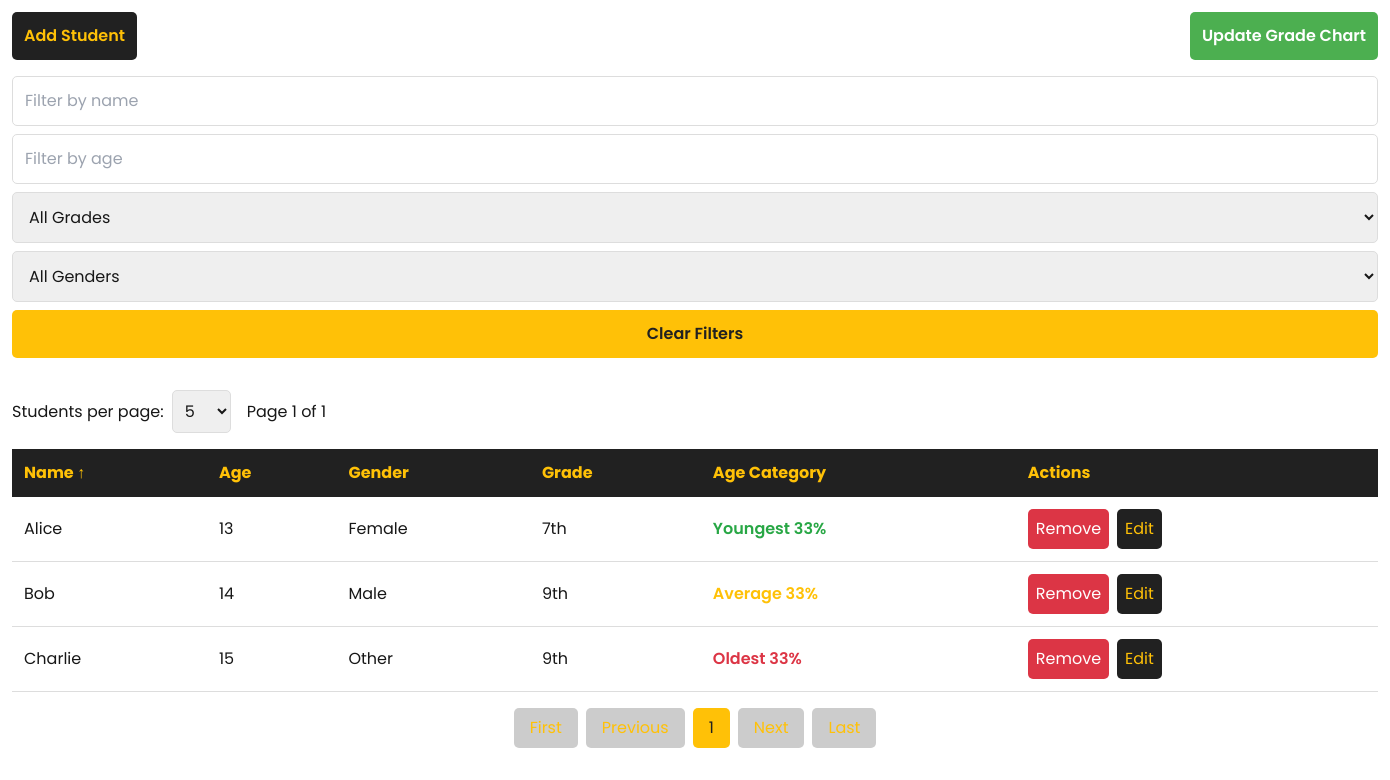
Test case: filterStudents › filters by name
Step 1. Type "bob" into the field with placeholder "Filter by name" → (695, 101), box 12,76 -> 1378,126
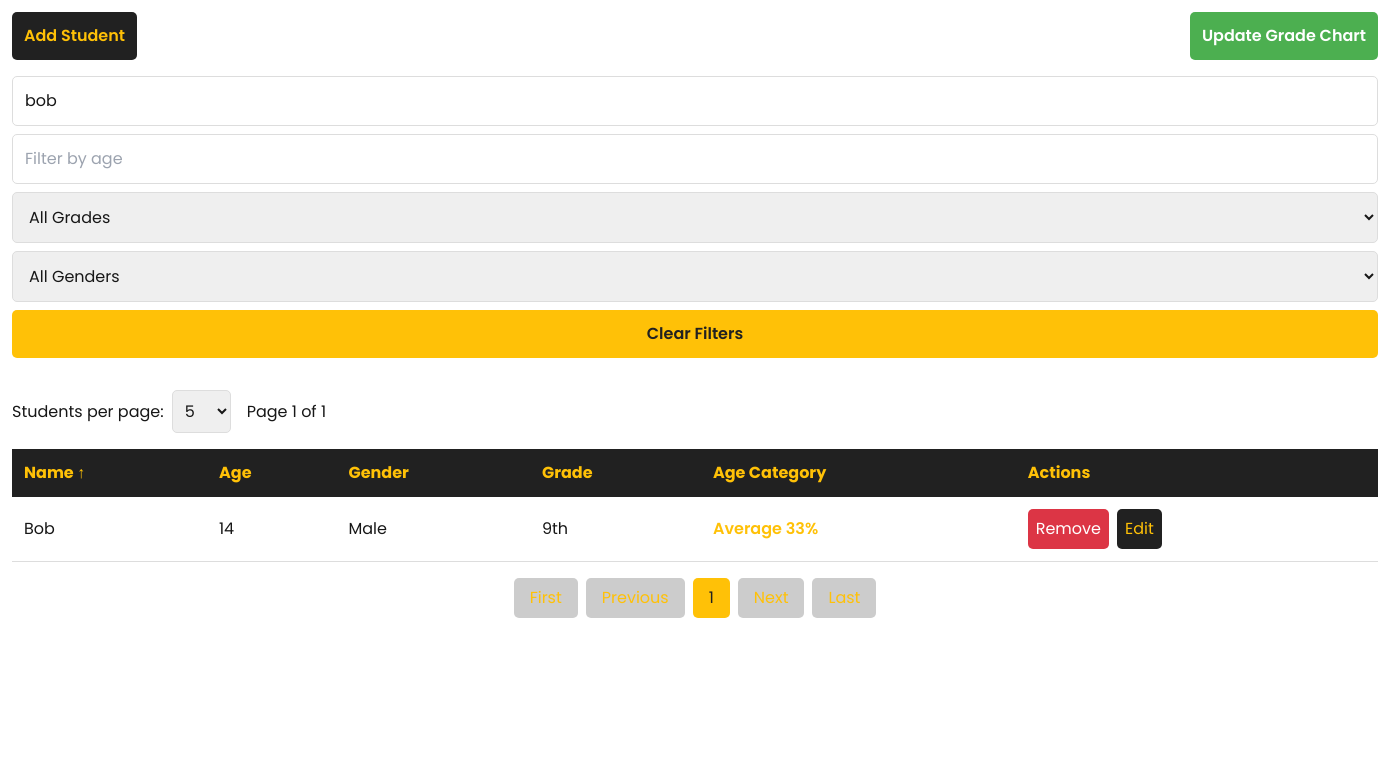
Expected: the text "Bob" is shown, 12,497 -> 207,562
Result: the text "Alice" is gone
Result: the text "Charlie" is gone
